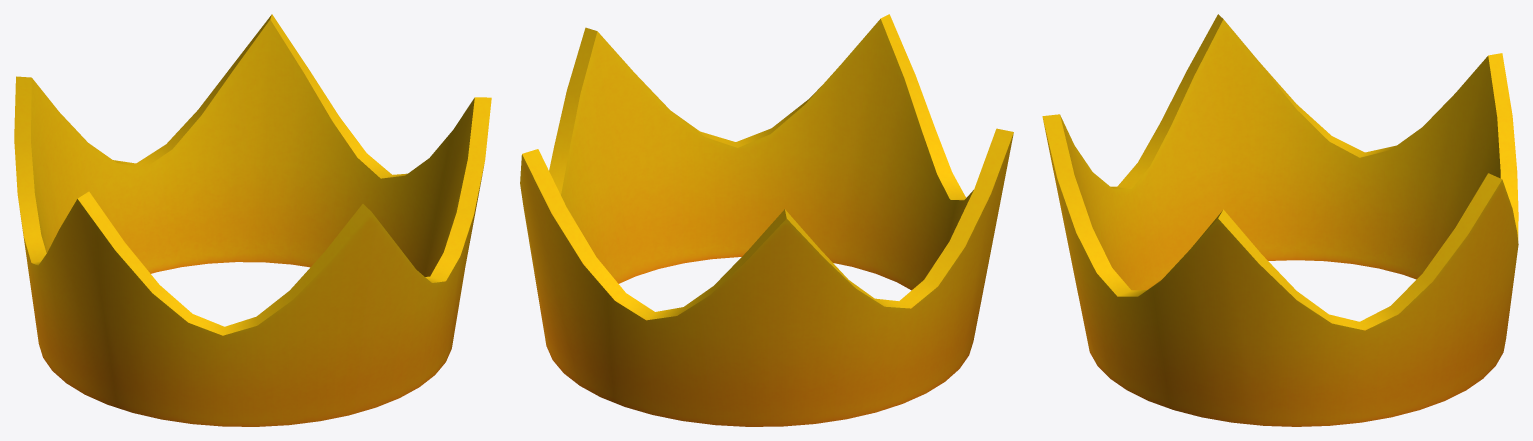
Rendered from Crown.FBX.
3 renders of one model, left to right at view 1: azimuth 30°, elevation 25°; view 2: azimuth 150°, elevation 25°; view 3: azimuth 270°, elevation 25°, orthographic. The views are drawn at different scales.
Visible parts, largest first — view 1: Crown; view 2: Crown; view 3: Crown.
Boxes of the visible parts, x1,y1,x2,y2 form: Crown: (14,14,491,426); Crown: (520,14,1013,426); Crown: (1042,14,1518,426).
Size of the model in its own units: 178 by 91.09 by 175.
1 material, 1 textured.
